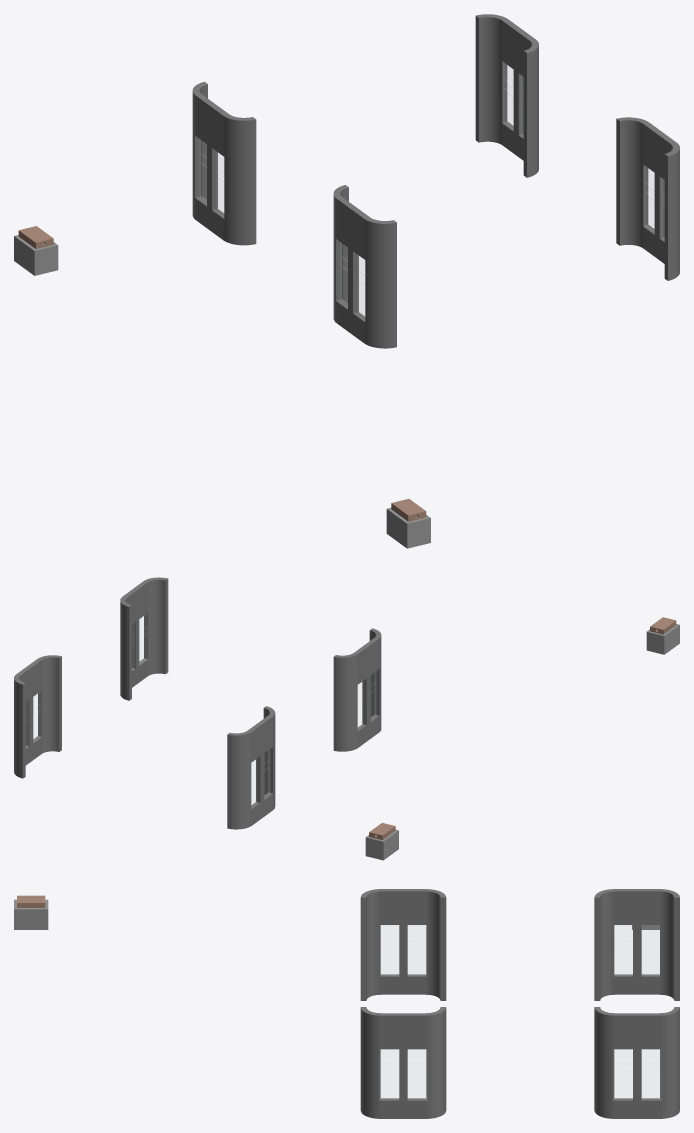
The picture shows the model from 3 angles, top to bottom: view 1: azimuth 30°, elevation 25°; view 2: azimuth 150°, elevation 25°; view 3: azimuth 270°, elevation 25°; orthographic projection. The views are drawn at different scales.
Bounding box in the file's own units: 16.48 × 4 × 23.36.
